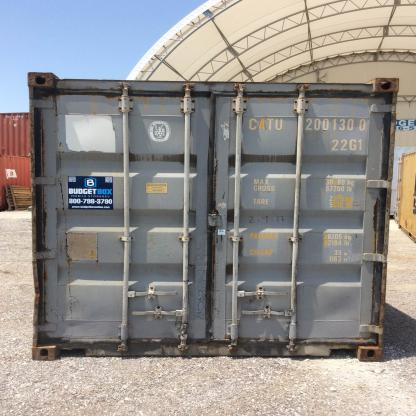Damage: (26, 270, 59, 341), (64, 300, 122, 336), (367, 193, 398, 257), (318, 286, 366, 324)
